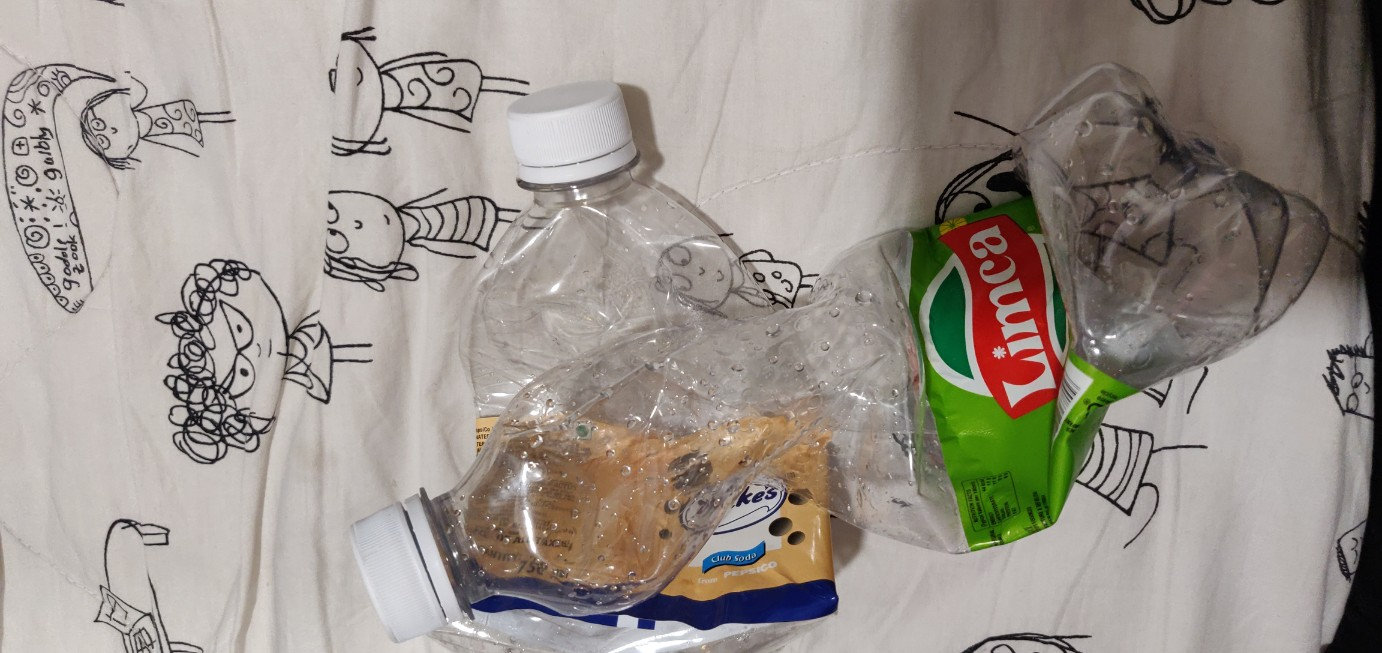Electronics: (330, 48, 1360, 653), (431, 65, 902, 653)
